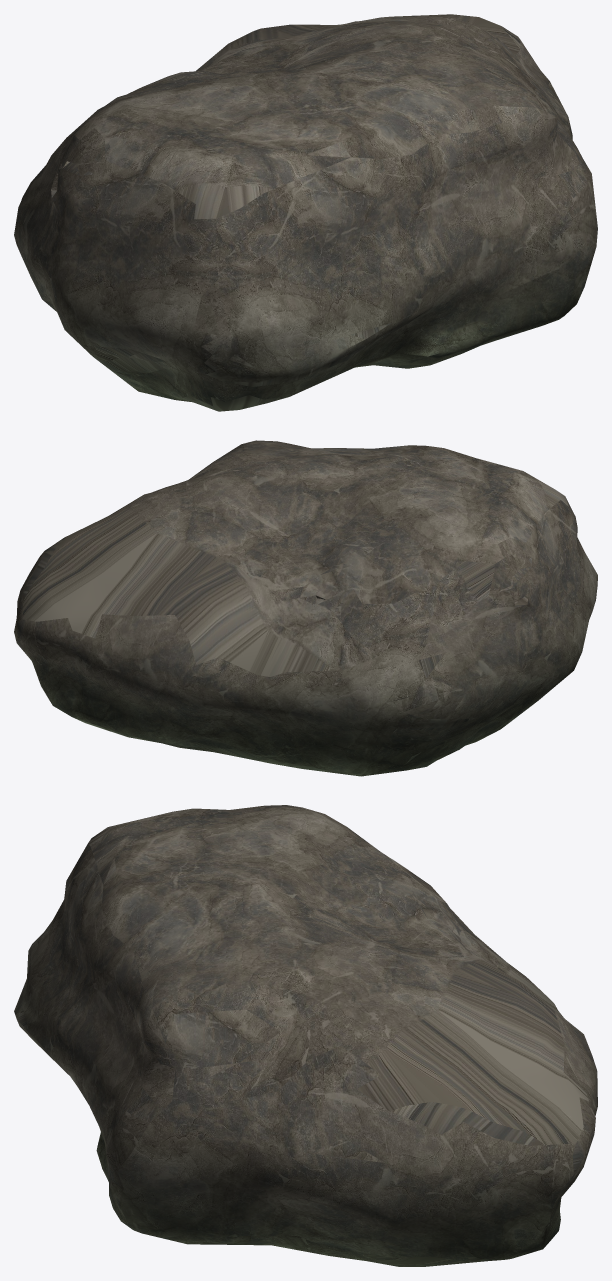
The model's file is coast_reef_c.glb.
The picture shows the model from 3 angles, top to bottom: view 1: azimuth 30°, elevation 25°; view 2: azimuth 150°, elevation 25°; view 3: azimuth 270°, elevation 25°; orthographic projection. The views are drawn at different scales.
Parts seen in each view (by area): view 1: Cliff_Rock_Model; view 2: Cliff_Rock_Model; view 3: Cliff_Rock_Model.
Boxes of the visible parts, <box> form: Cliff_Rock_Model: <box>14,14,597,411</box>; Cliff_Rock_Model: <box>14,440,597,776</box>; Cliff_Rock_Model: <box>14,805,597,1266</box>.
Size of the model in its own units: 1.83 by 0.9064 by 1.59.
Materials: 1 (1 with a texture image).
